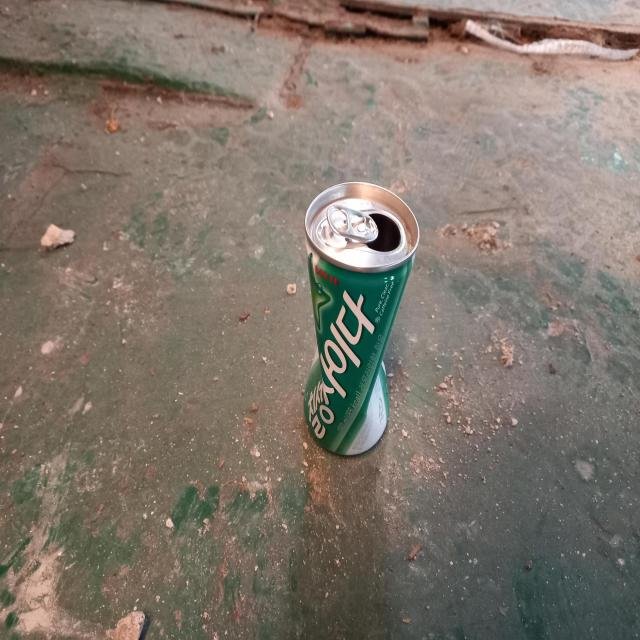can: (304, 181, 420, 455)
